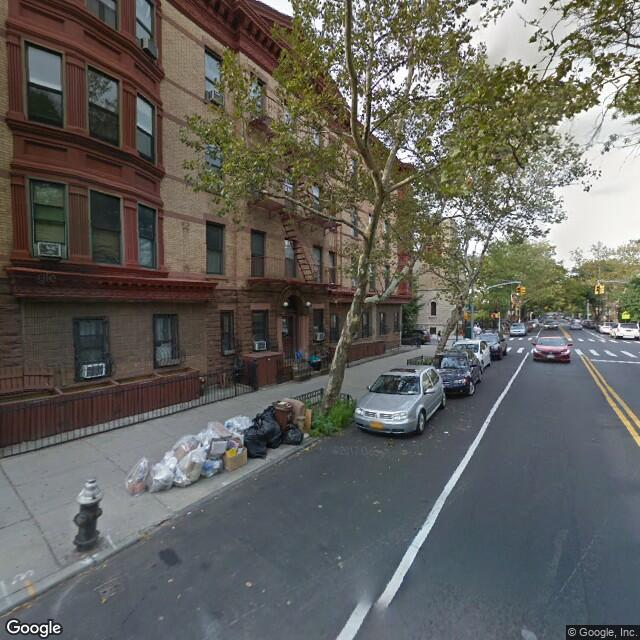litter: (115, 448, 197, 499), (223, 410, 318, 452), (174, 429, 254, 472), (260, 395, 315, 434)
